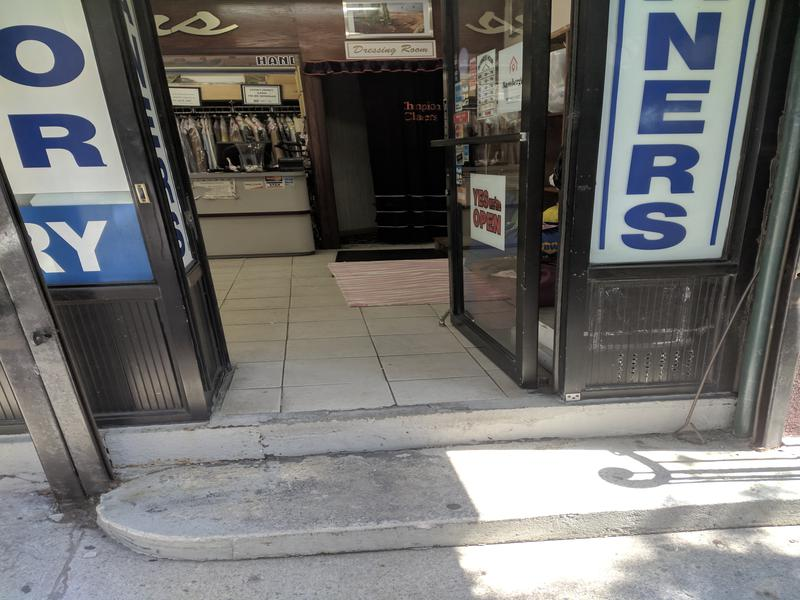door: (435, 4, 562, 391)
